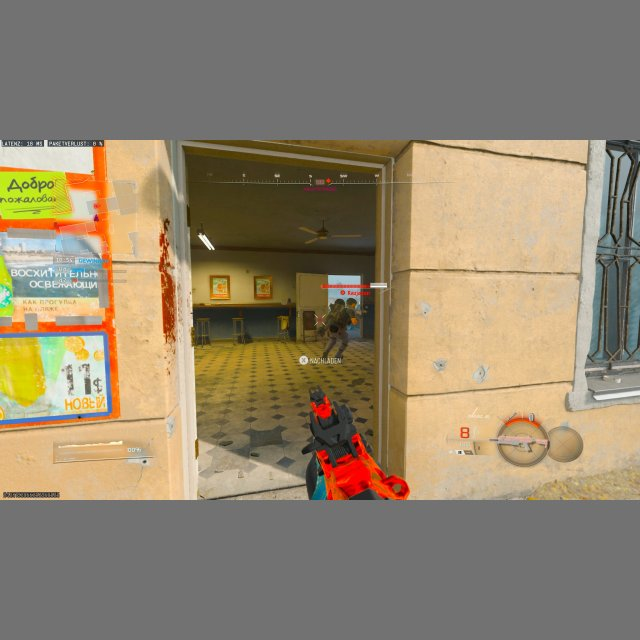head: (332, 298, 345, 307)
player: (321, 297, 361, 363)
